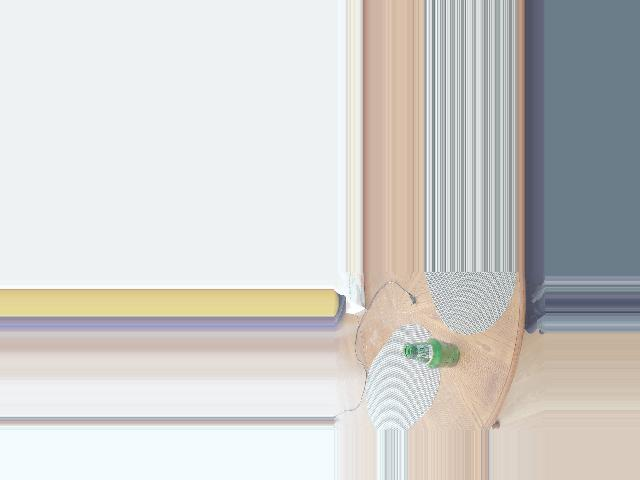beer: (402, 339, 459, 369)
